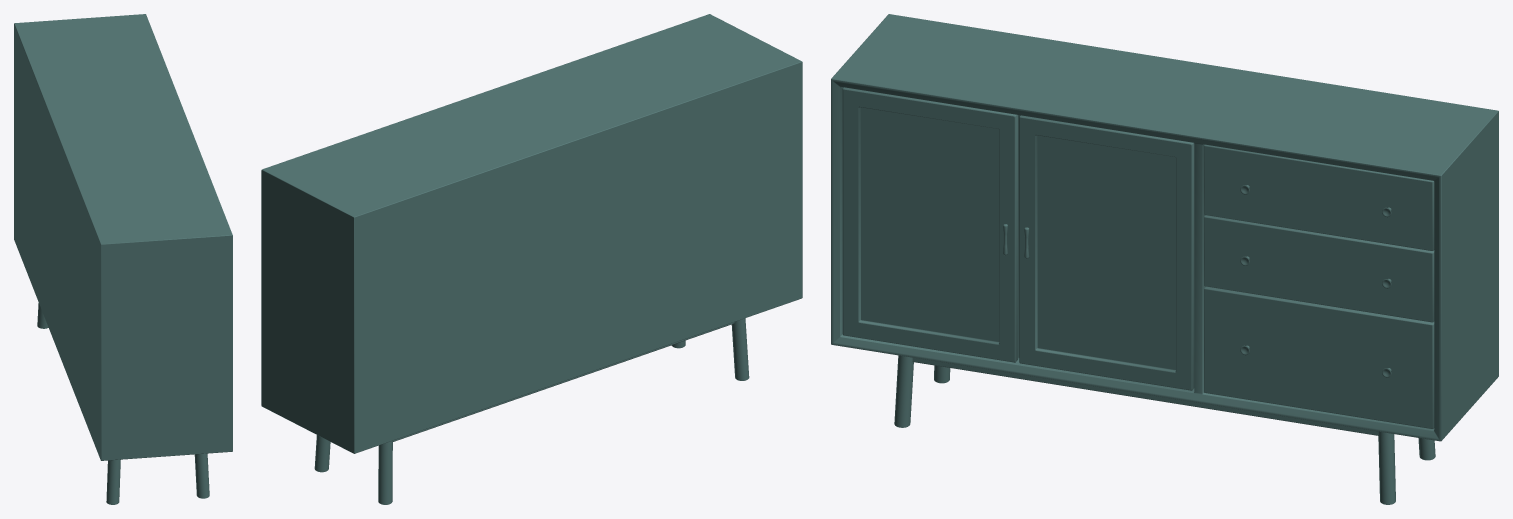
File: cabinet.glb
3 views of the same model, side by side, from view 1: azimuth 30°, elevation 25°; view 2: azimuth 150°, elevation 25°; view 3: azimuth 270°, elevation 25° (orthographic). The views are drawn at different scales.
Parts seen in each view (by area): view 1: accent_cabinet_pfo_bsw_n3d; view 2: accent_cabinet_pfo_bsw_n3d; view 3: accent_cabinet_pfo_bsw_n3d.
Boxes of the visible parts, x1=… form: accent_cabinet_pfo_bsw_n3d: x1=14, y1=14, x2=232, y2=504; accent_cabinet_pfo_bsw_n3d: x1=261, y1=14, x2=802, y2=504; accent_cabinet_pfo_bsw_n3d: x1=831, y1=14, x2=1498, y2=504.
Bounding box in the file's own units: 0.1114 × 0.1113 × 0.1945.
